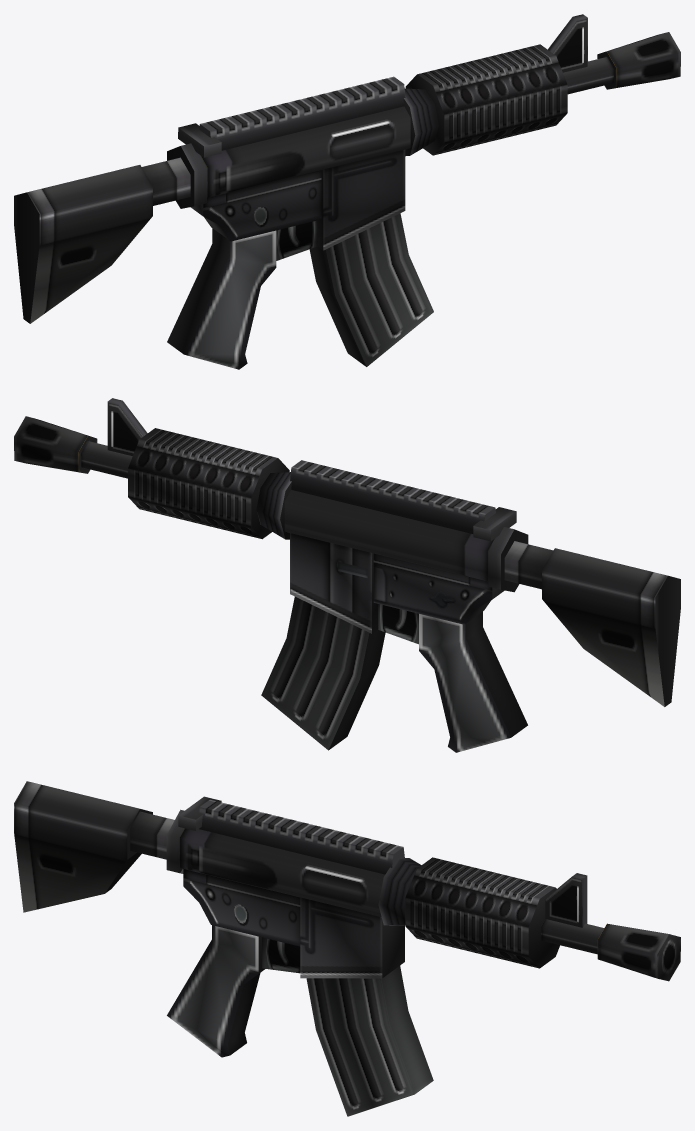
The model's file is rifle m4a1 lv1.FBX.
The picture shows the model from 3 angles, top to bottom: view 1: azimuth 30°, elevation 25°; view 2: azimuth 150°, elevation 25°; view 3: azimuth 330°, elevation 25°; orthographic projection.
Visible parts, largest first — view 1: Object040; view 2: Object040; view 3: Object040.
Part boxes in pixels (left/top/right/bottom): Object040: left=14, top=14, right=680, bottom=369; Object040: left=14, top=398, right=680, bottom=752; Object040: left=14, top=781, right=680, bottom=1116.
Size of the model in its own units: 78.94 by 33.87 by 8.18.
